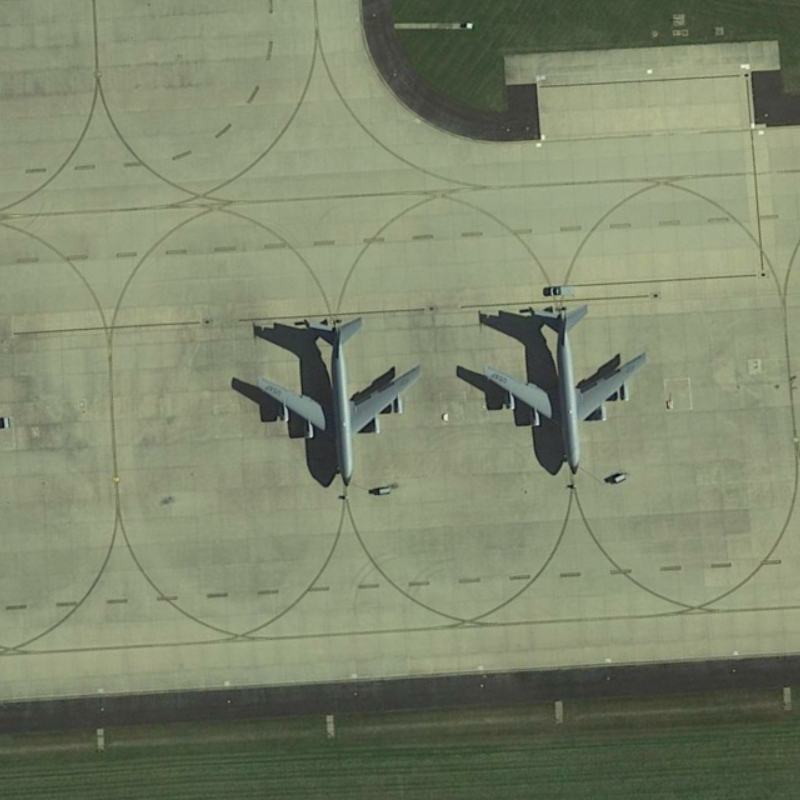A14: (476, 294, 652, 485), (249, 311, 429, 493)
